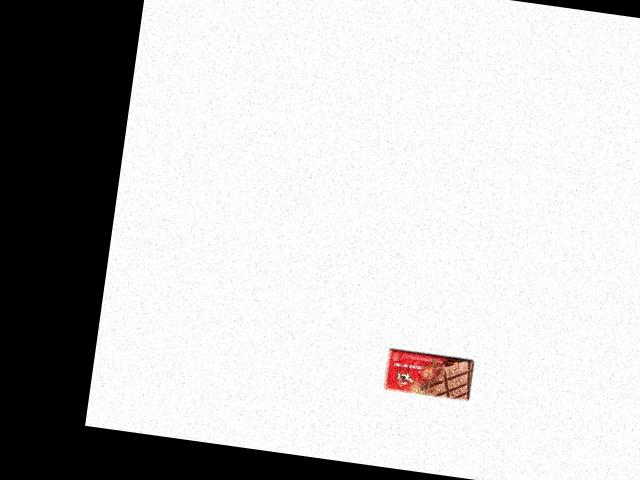chocolate: (382, 346, 476, 403)
